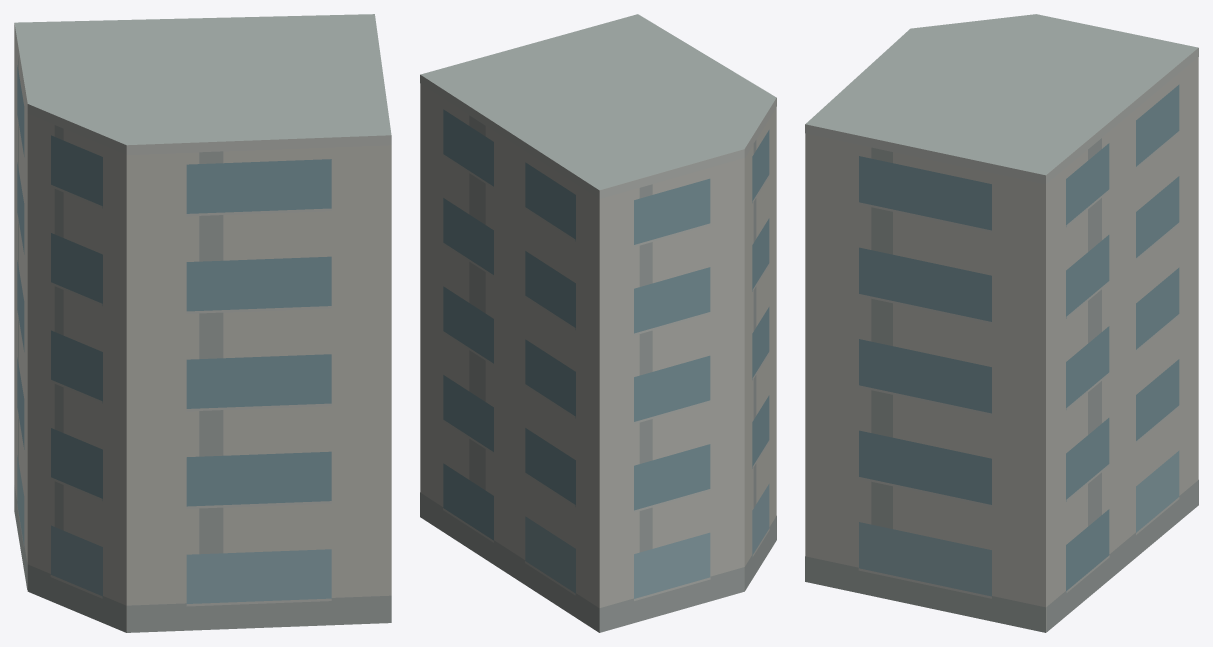
Rendered from survey-upis-32733884.glb.
3 views of the same model, side by side, from view 1: azimuth 30°, elevation 25°; view 2: azimuth 150°, elevation 25°; view 3: azimuth 270°, elevation 25° (orthographic). The views are drawn at different scales.
Parts seen in each view (by area): view 1: survey-upis-32733884.tmp; view 2: survey-upis-32733884.tmp; view 3: survey-upis-32733884.tmp.
Boxes of the visible parts, x1,y1,x2,y2 form: survey-upis-32733884.tmp: (14, 14, 391, 632); survey-upis-32733884.tmp: (420, 14, 776, 632); survey-upis-32733884.tmp: (805, 14, 1198, 632).
Bounding box in the file's own units: 9.16 × 12.1 × 9.44.
